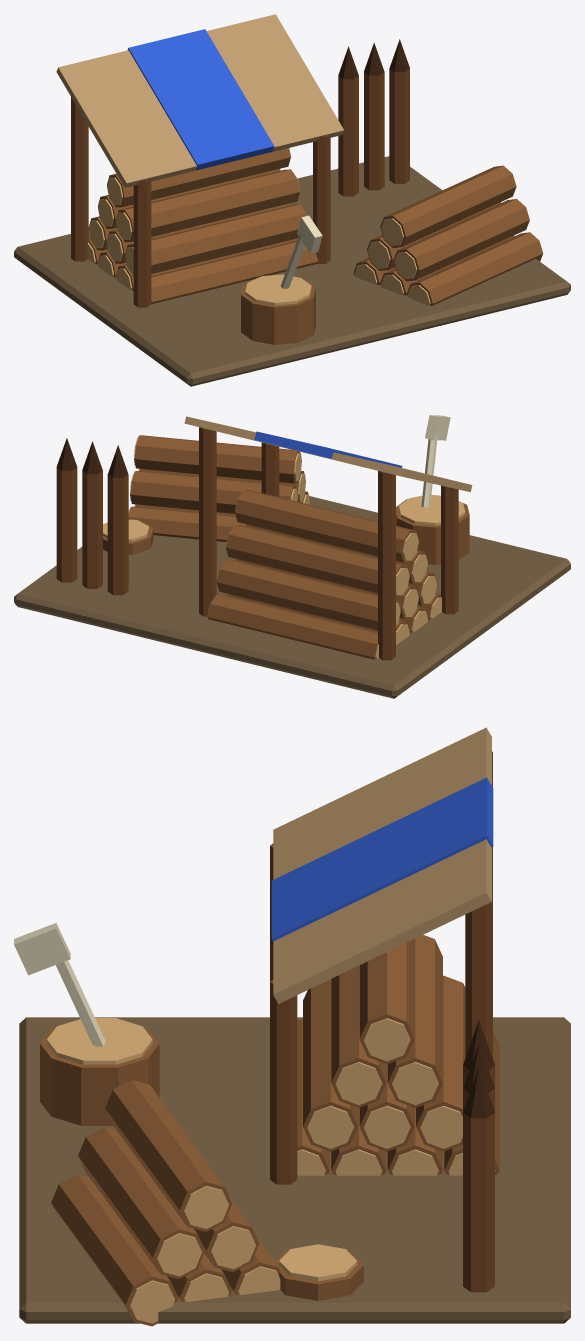
The model's file is Lumberyard.glb.
3 renders of one model, top to bottom at view 1: azimuth 30°, elevation 25°; view 2: azimuth 150°, elevation 25°; view 3: azimuth 270°, elevation 25°, orthographic. The views are drawn at different scales.
Parts seen in each view (by area): view 1: Lumberyard; view 2: Lumberyard; view 3: Lumberyard.
Boxes of the visible parts, box(x1,y1,x2,y2) form: Lumberyard: box(14, 14, 570, 386); Lumberyard: box(14, 415, 570, 698); Lumberyard: box(14, 727, 570, 1326).
Size of the model in its own units: 2.9 by 1.49 by 2.31.
